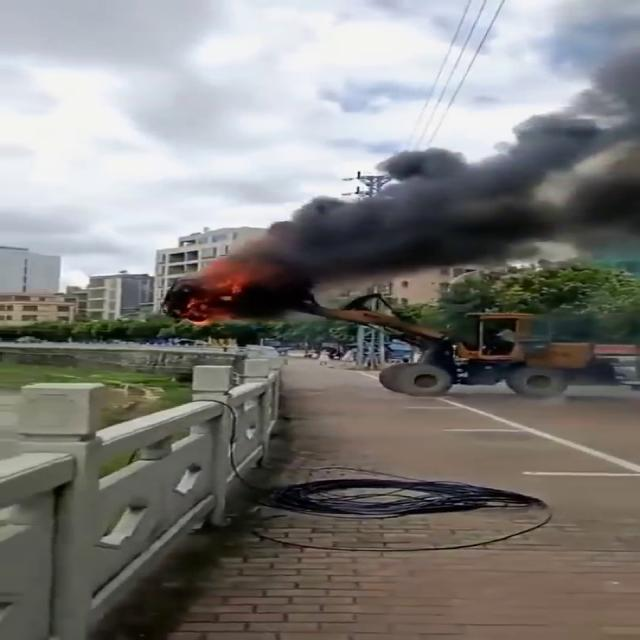Fire: (180, 260, 243, 324)
Smoke: (242, 76, 638, 312)
